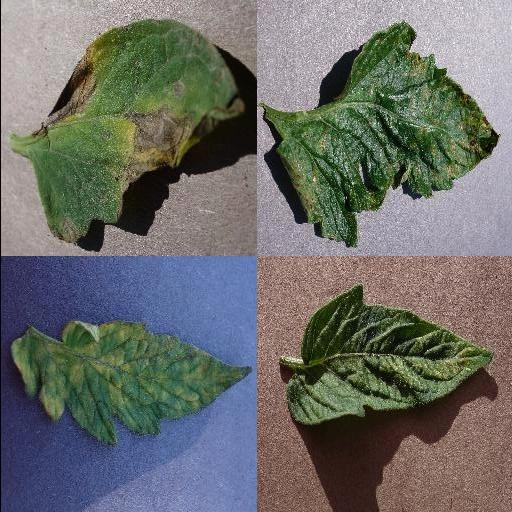Early Blight: (30, 21, 244, 244)
Leaf Mold: (8, 319, 252, 446)
Septoria: (277, 24, 497, 247)
Spider Mites: (284, 283, 494, 425)
